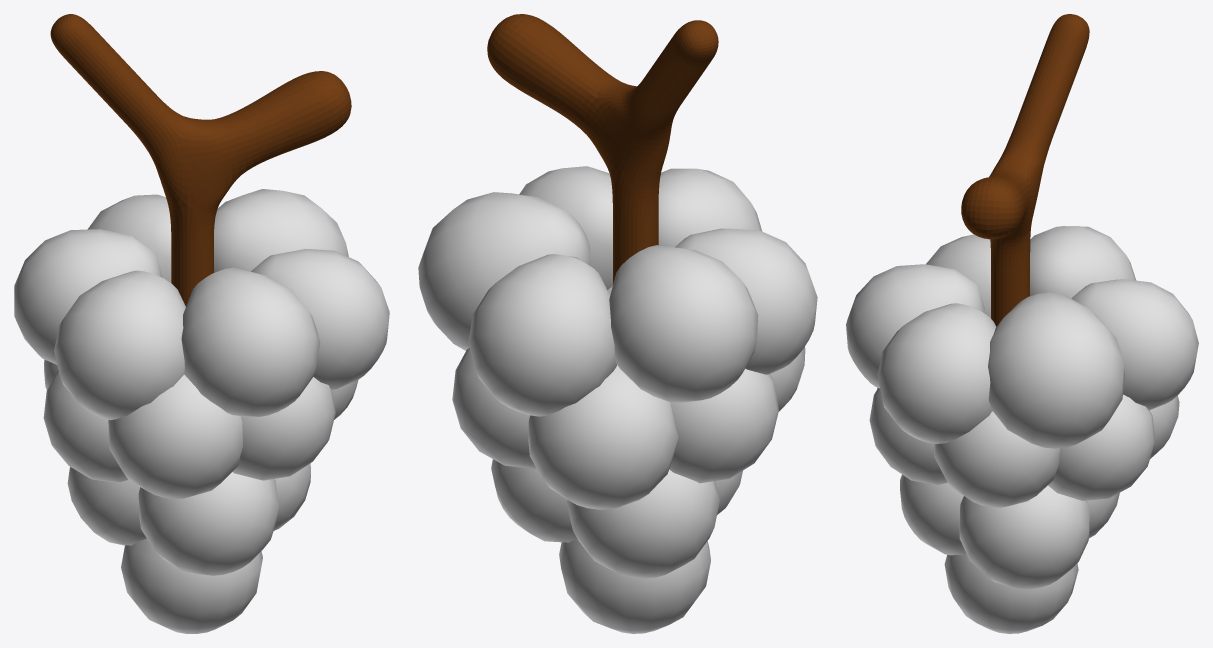
Rendered from Grapes.fbx.
3 renders of one model, left to right at view 1: azimuth 30°, elevation 25°; view 2: azimuth 150°, elevation 25°; view 3: azimuth 270°, elevation 25°, orthographic. The views are drawn at different scales.
Parts seen in each view (by area): view 1: Grapes, Stem; view 2: Grapes, Stem; view 3: Grapes, Stem.
Part boxes in pixels (left/top/right/bottom): Grapes: left=14, top=189, right=389, bottom=633; Stem: left=50, top=14, right=351, bottom=306; Grapes: left=418, top=166, right=817, bottom=633; Stem: left=487, top=14, right=718, bottom=284; Grapes: left=846, top=226, right=1198, bottom=633; Stem: left=961, top=14, right=1089, bottom=326.
Size of the model in its own units: 21.04 by 39.05 by 21.86.
